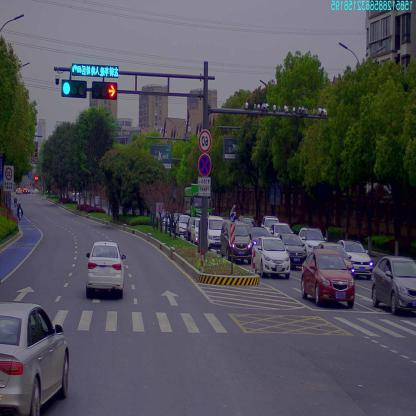traffic-light: (71, 66, 119, 76), (92, 84, 118, 102), (63, 81, 85, 99)
